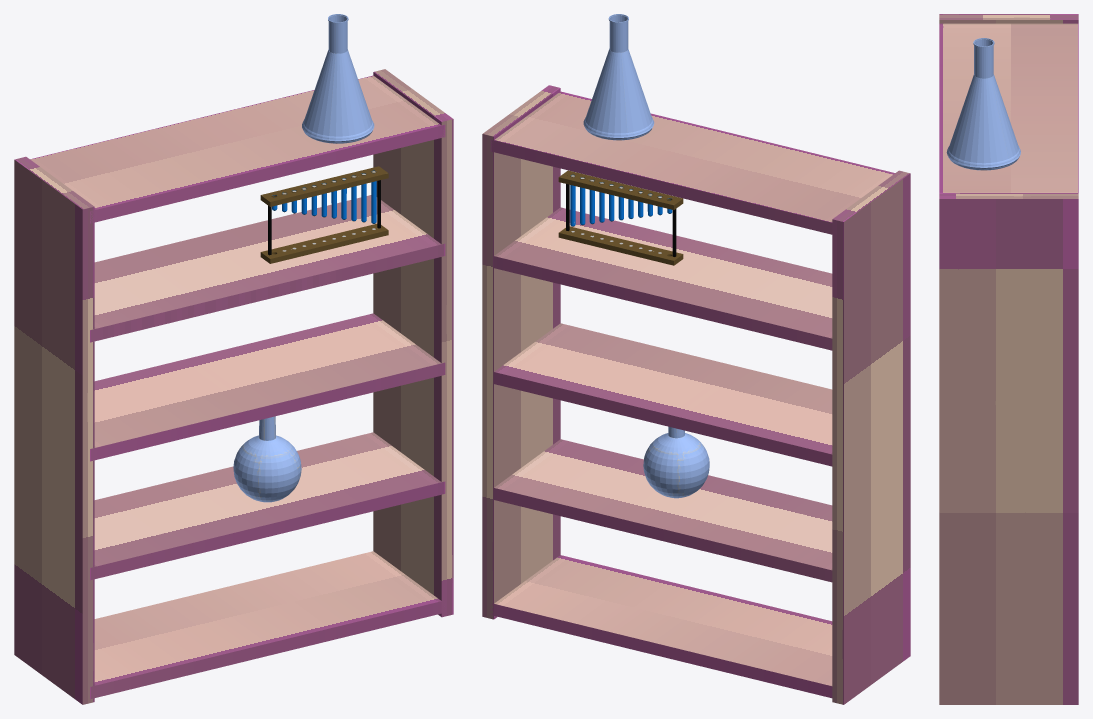
Rendered from estanteria_cosas2.obj.
The picture shows the model from 3 angles, left to right: view 1: azimuth 30°, elevation 25°; view 2: azimuth 150°, elevation 25°; view 3: azimuth 270°, elevation 25°; orthographic projection. The views are drawn at different scales.
Visible parts, largest first — view 1: estanteria, soporte_tubos.001, matraz, matraz_esferico; view 2: estanteria, soporte_tubos.001, matraz, matraz_esferico; view 3: estanteria, matraz.
Part boxes in pixels (<box>): estanteria: <box>14,69,453,704</box>; soporte_tubos.001: <box>260,166,388,263</box>; matraz: <box>302,14,374,143</box>; matraz_esferico: <box>233,416,301,502</box>; estanteria: <box>482,85,910,704</box>; soporte_tubos.001: <box>558,170,683,265</box>; matraz: <box>583,14,654,140</box>; matraz_esferico: <box>643,426,709,498</box>; estanteria: <box>939,14,1078,704</box>; matraz: <box>946,38,1020,170</box>.
Bounding box in the file's own units: 3.13 × 4.87 × 1.
